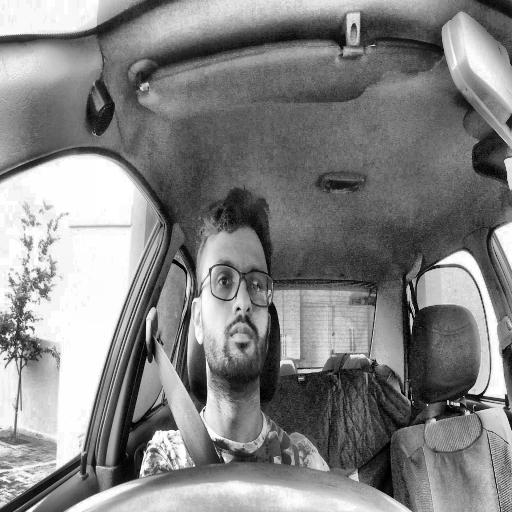awake: (190, 188, 274, 388)
